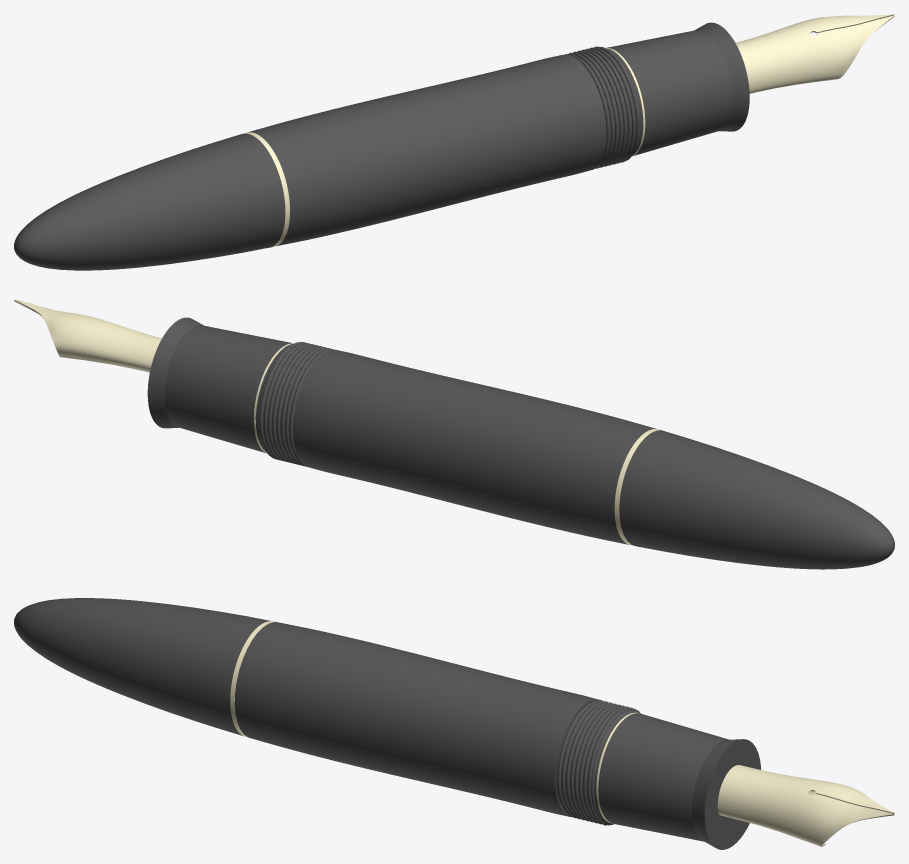
The model's file is 214_万年筆開.glb.
3 renders of one model, top to bottom at view 1: azimuth 30°, elevation 25°; view 2: azimuth 150°, elevation 25°; view 3: azimuth 330°, elevation 25°, orthographic.
Parts seen in each view (by area): view 1: Body; view 2: Body; view 3: Body.
Part boxes in pixels (x1,y1,x2,y2): Body: [14, 14, 894, 270]; Body: [14, 299, 894, 569]; Body: [14, 598, 894, 849].
Bounding box in the file's own units: 0.1352 × 0.0163 × 0.0164.
